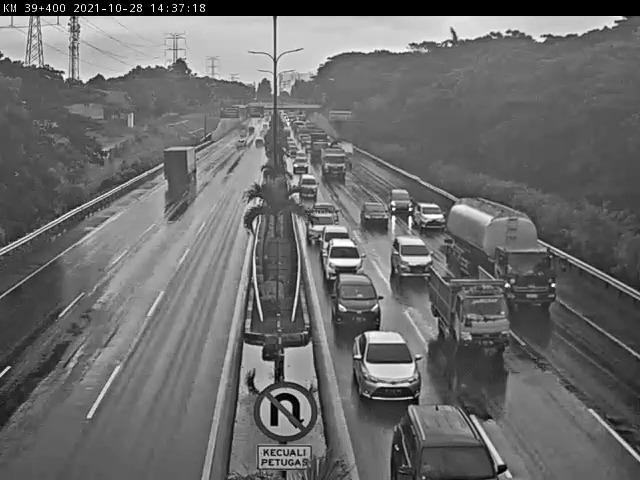big truck: (444, 197, 561, 309), (156, 147, 198, 189), (317, 144, 347, 183)
car: (393, 406, 506, 480), (352, 331, 425, 399), (329, 271, 383, 330), (323, 239, 368, 285), (390, 237, 438, 279), (320, 226, 354, 257), (411, 201, 447, 230), (308, 213, 336, 246), (359, 201, 389, 229), (387, 186, 411, 213), (312, 199, 339, 223), (299, 174, 319, 197), (292, 156, 311, 173)
small truck: (430, 257, 513, 354)
